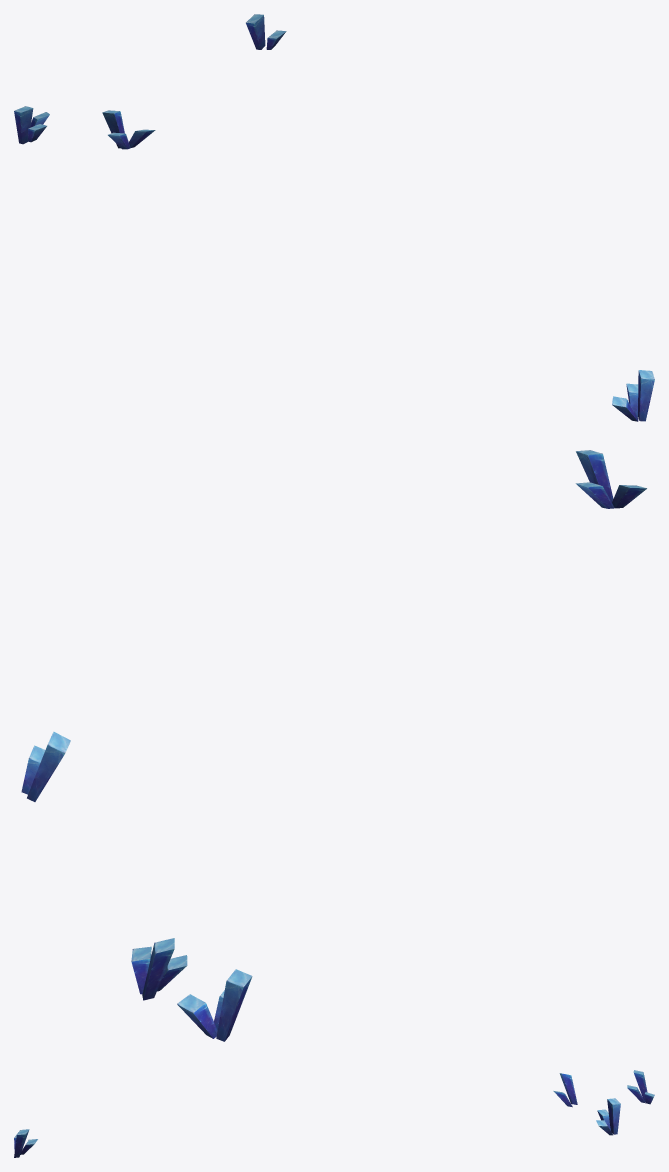
The model's file is Area12_39_y.FBX.
3 renders of one model, top to bottom at view 1: azimuth 30°, elevation 25°; view 2: azimuth 150°, elevation 25°; view 3: azimuth 270°, elevation 25°, orthographic. The views are drawn at different scales.
Parts seen in each view (by area): view 1: Area12_39_y; view 2: Area12_39_y; view 3: Area12_39_y.
Boxes of the visible parts, x1=… form: Area12_39_y: x1=14, y1=14, x2=654, y2=421; Area12_39_y: x1=21, y1=450, x2=646, y2=1041; Area12_39_y: x1=14, y1=1070, x2=654, y2=1157.
Bounding box in the file's own units: 298 × 185 × 1113.
